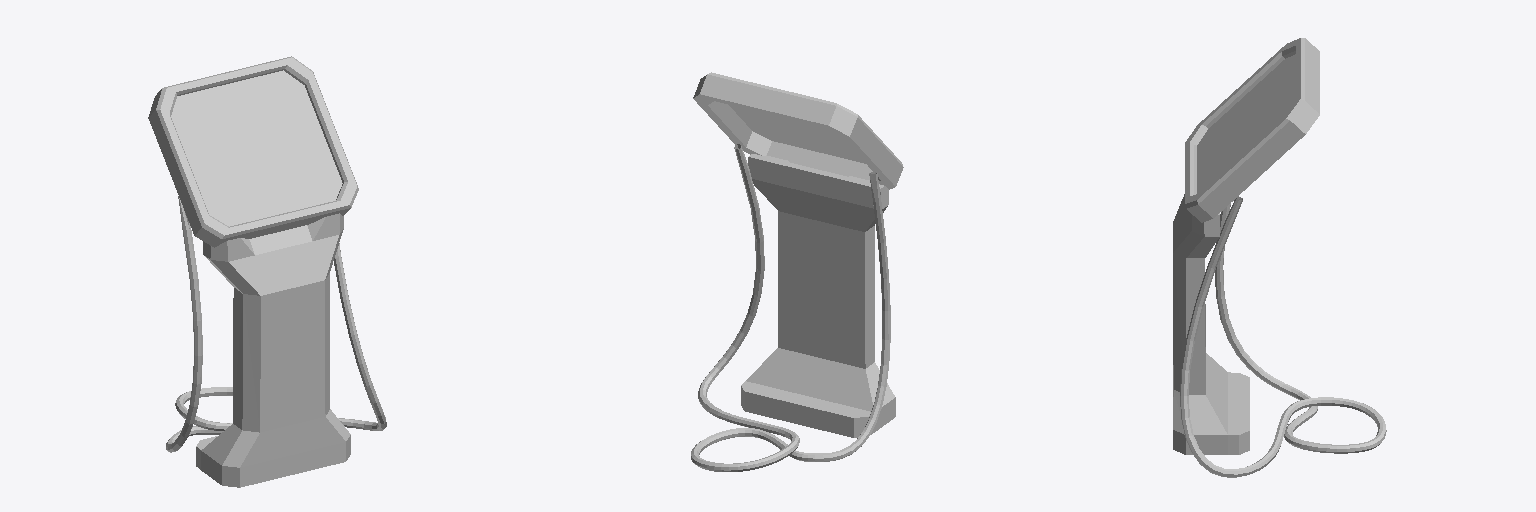
File: consoleSmall.obj
3 views of the same model, side by side, from view 1: azimuth 30°, elevation 25°; view 2: azimuth 150°, elevation 25°; view 3: azimuth 270°, elevation 25° (orthographic).
Parts seen in each view (by area): view 1: small_console003, smallConsoleglass; view 2: small_console003, smallConsoleglass; view 3: small_console003, smallConsoleglass.
Part boxes in pixels (x1,y1,x2,y2): small_console003: (148,56,386,487); smallConsoleglass: (171,70,342,226); small_console003: (691,72,903,471); smallConsoleglass: (728,104,865,163); small_console003: (1173,38,1386,477); smallConsoleglass: (1197,54,1295,193).
Size of the model in its own units: 0.9061 by 1.64 by 0.8825.